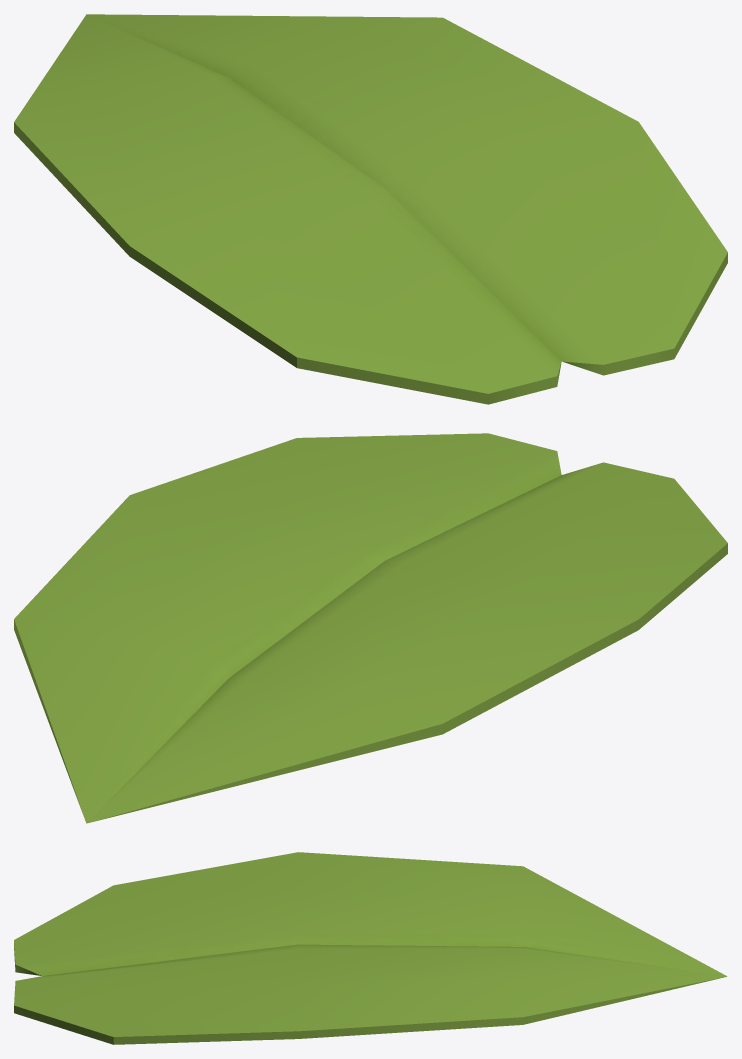
File: shortLeaf.fbx
3 renders of one model, top to bottom at view 1: azimuth 30°, elevation 25°; view 2: azimuth 150°, elevation 25°; view 3: azimuth 270°, elevation 25°, orthographic. The views are drawn at different scales.
Visible parts, largest first — view 1: shortLeaf_geo; view 2: shortLeaf_geo; view 3: shortLeaf_geo.
Part boxes in pixels (<box>): shortLeaf_geo: <box>14,14,727,404</box>; shortLeaf_geo: <box>14,433,727,823</box>; shortLeaf_geo: <box>14,852,727,1044</box>.
Size of the model in its own units: 23.52 by 2.58 by 39.6.
1 material, 1 textured.
